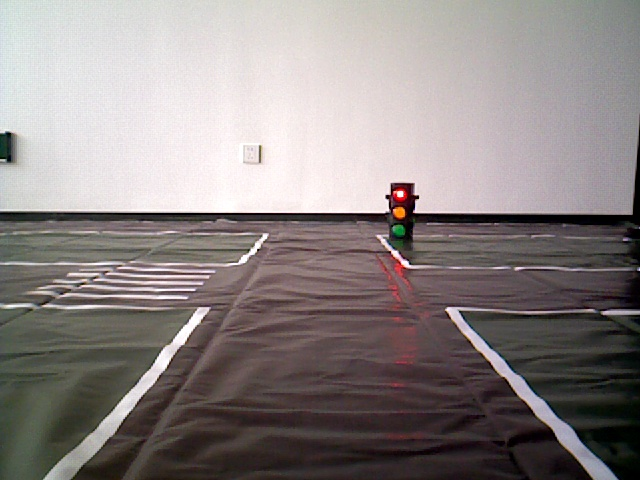red: (387, 184, 411, 240)
